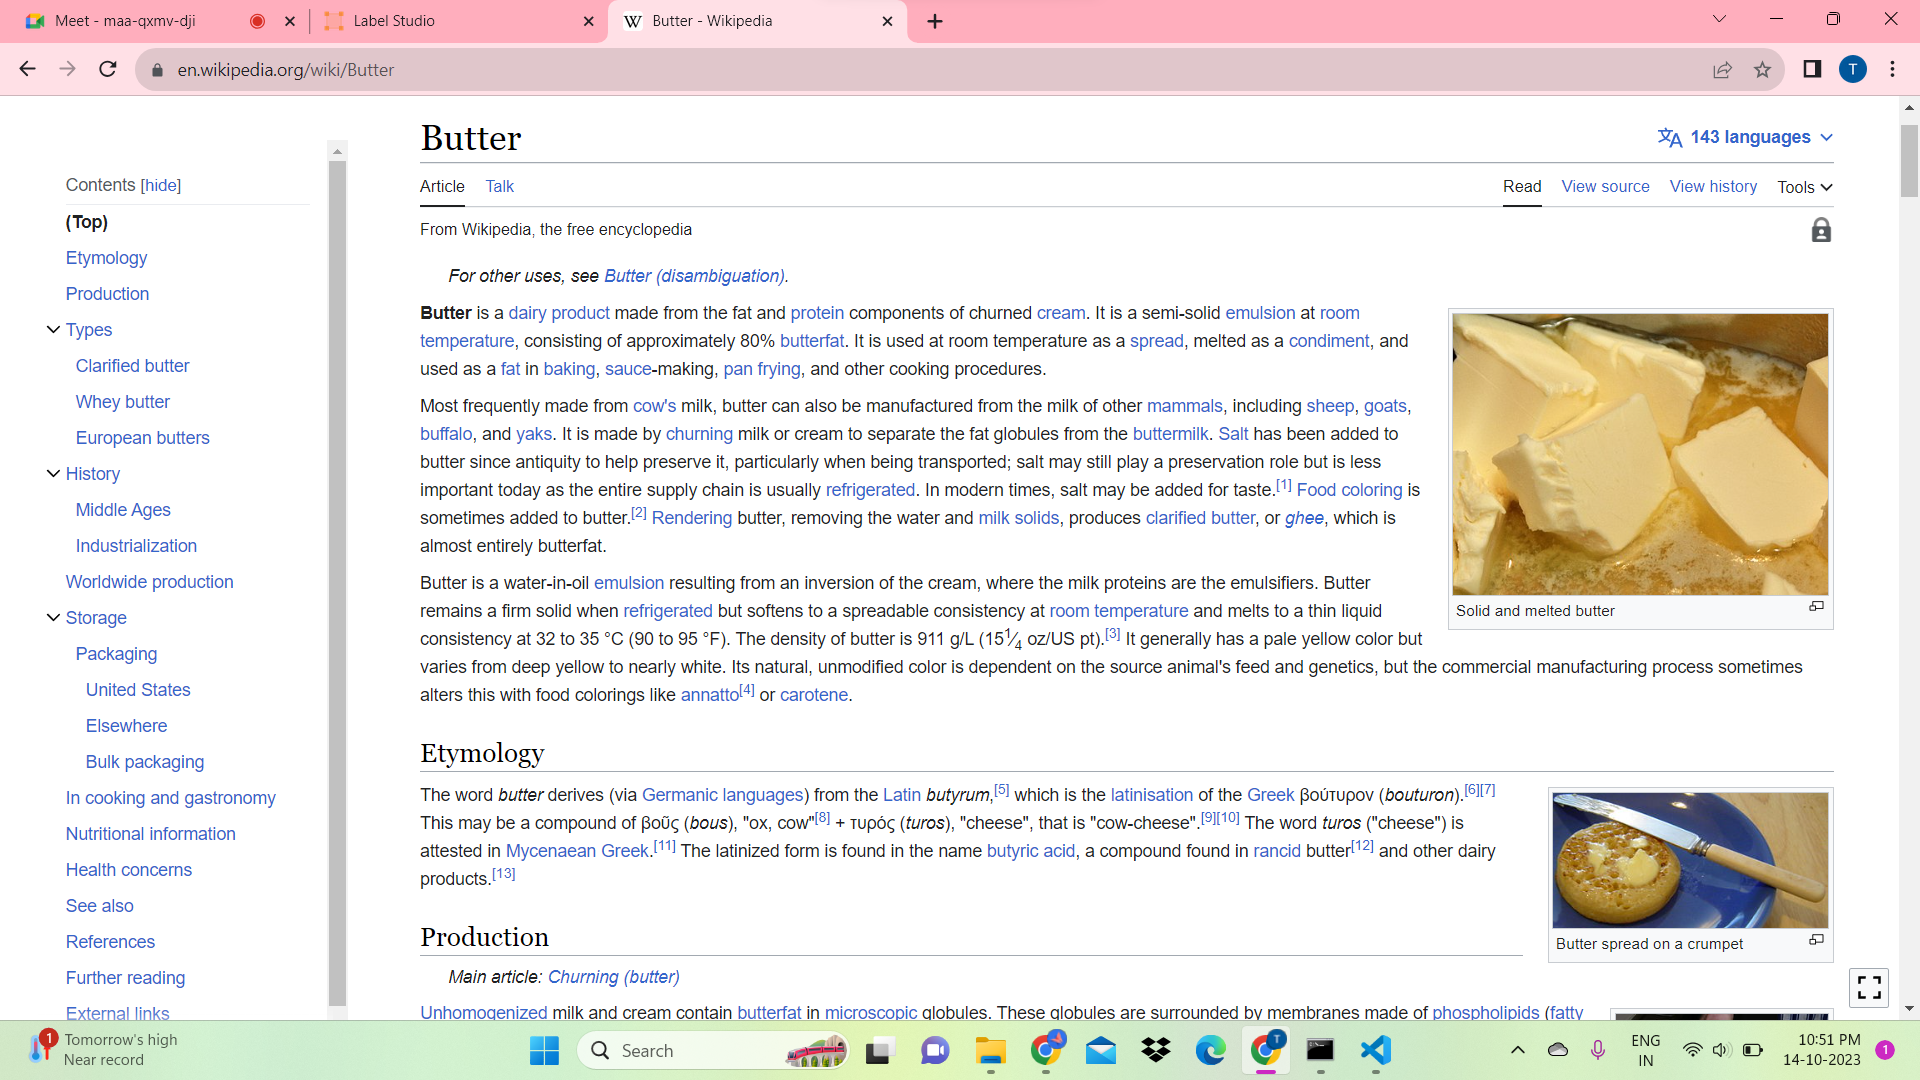Image: (1441, 293, 1845, 615), (1536, 781, 1838, 926)
Paragraph: (411, 566, 1822, 729), (407, 390, 1404, 556), (401, 777, 1523, 889), (390, 291, 1437, 377), (50, 785, 291, 1022), (57, 608, 241, 779), (58, 319, 235, 459), (61, 173, 231, 309), (51, 479, 240, 600), (438, 252, 791, 291), (410, 211, 708, 245), (404, 115, 539, 164), (414, 736, 554, 773), (407, 919, 554, 953)
